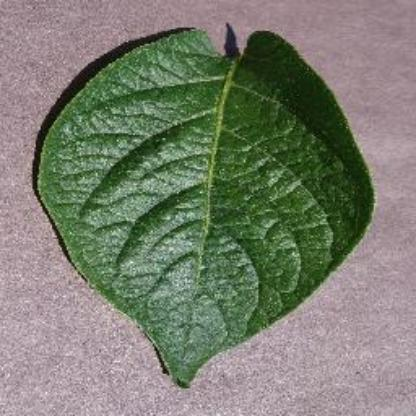Healthy-plant: (31, 20, 384, 386)
